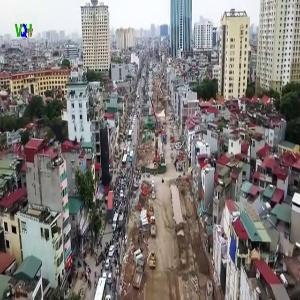drone: (11, 88, 106, 183)
